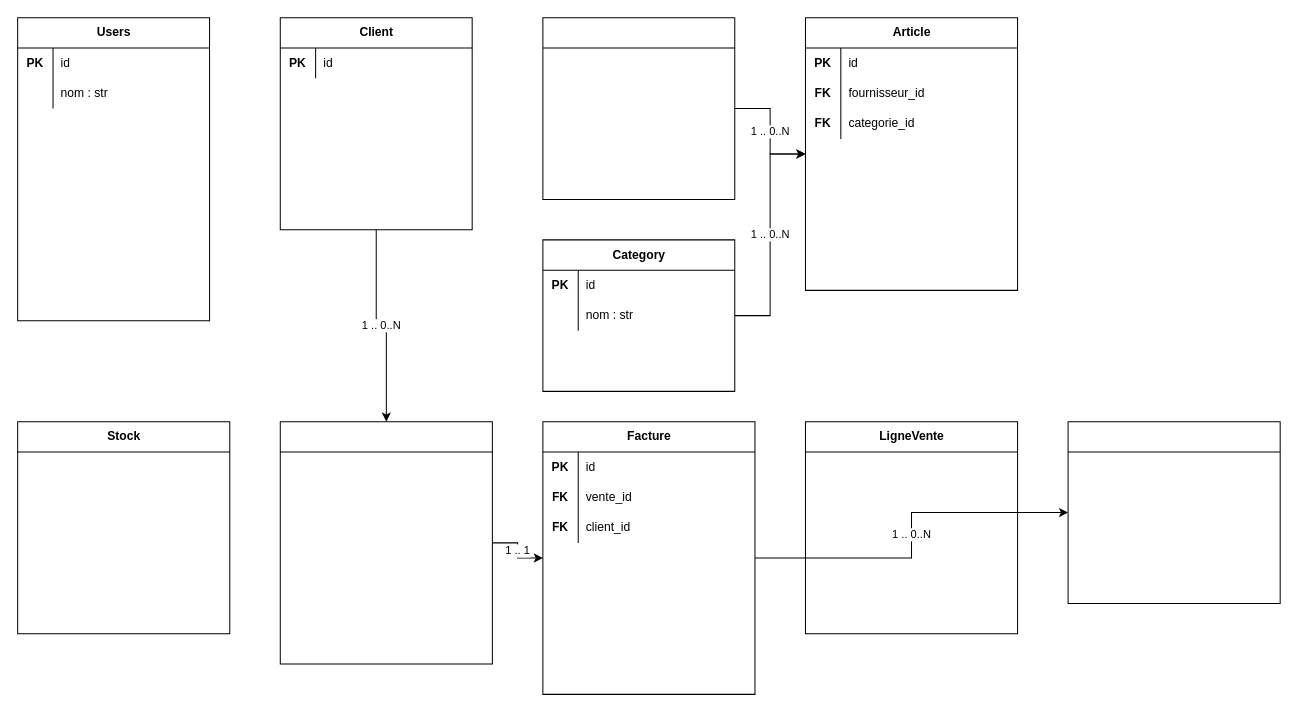
The diagram is 1298 pixels wide and 712 high, and some of its shapes have lost their labels. Here are the shapes that lost their labels. From the top down, the centre of each, then its label:
At point (638, 108): "Fournisseur".
At point (1173, 512): "Paiement".
At point (385, 542): "Vente".
